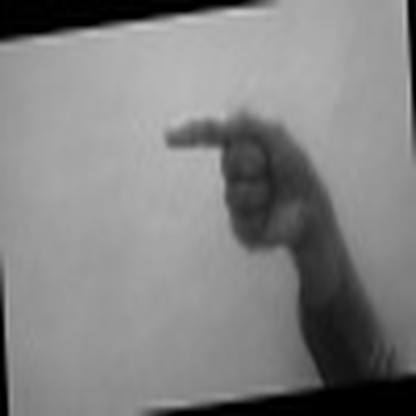g: (154, 95, 333, 254)
